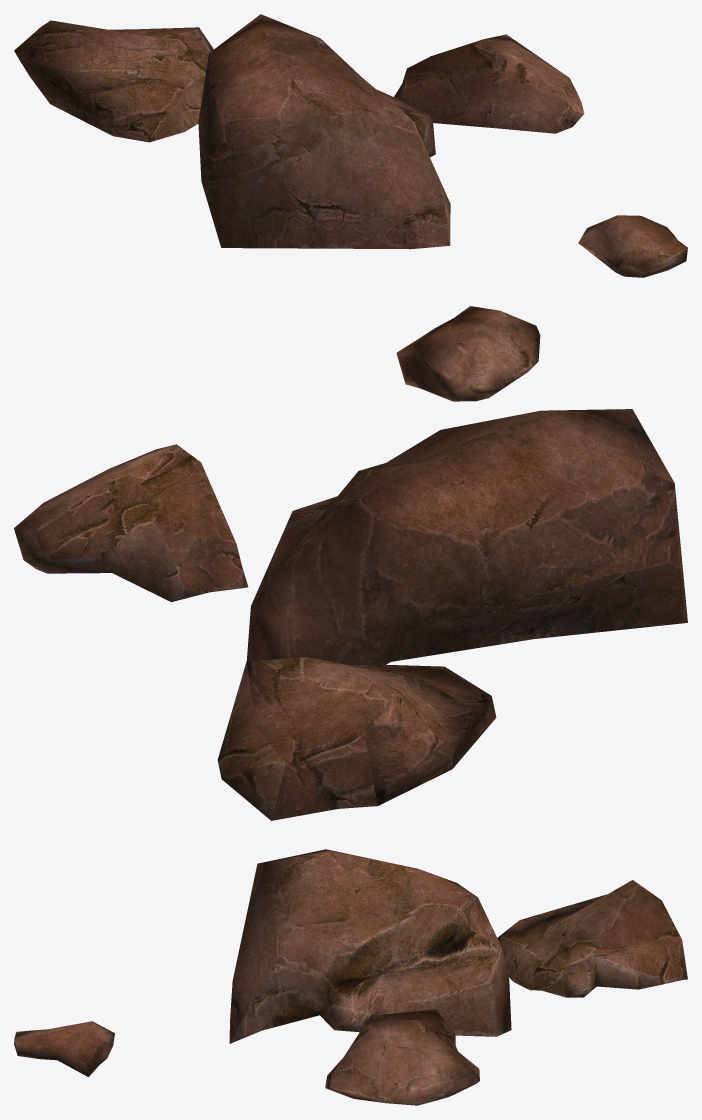
File: Rock_Stone1_lod1.glb
The picture shows the model from 3 angles, top to bottom: view 1: azimuth 30°, elevation 25°; view 2: azimuth 150°, elevation 25°; view 3: azimuth 270°, elevation 25°; orthographic projection. The views are drawn at different scales.
Visible parts, largest first — view 1: xiutz_stone1_lod1; view 2: xiutz_stone1_lod1; view 3: xiutz_stone1_lod1.
Boxes of the visible parts, left/top/right/bottom form: xiutz_stone1_lod1: left=14, top=14, right=687, bottom=277; xiutz_stone1_lod1: left=14, top=306, right=687, bottom=820; xiutz_stone1_lod1: left=14, top=849, right=687, bottom=1105.
Bounding box in the file's own units: 8.82 × 3.26 × 13.71.
1 material, 1 textured.
